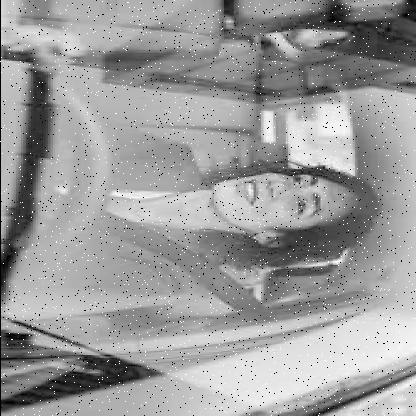seatbelt: (56, 141, 370, 304)
